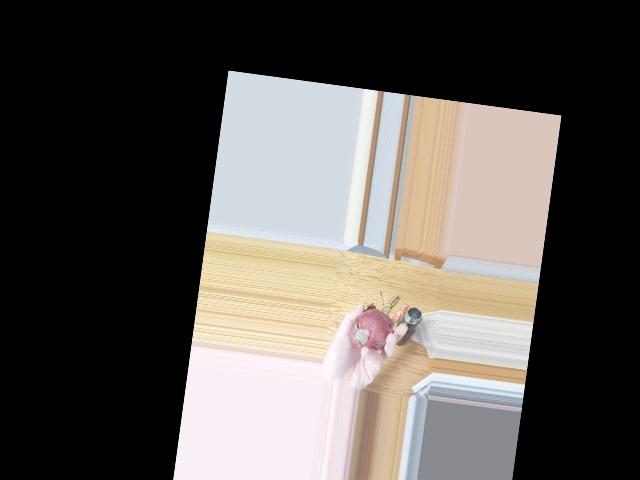onion: (349, 306, 393, 348)
